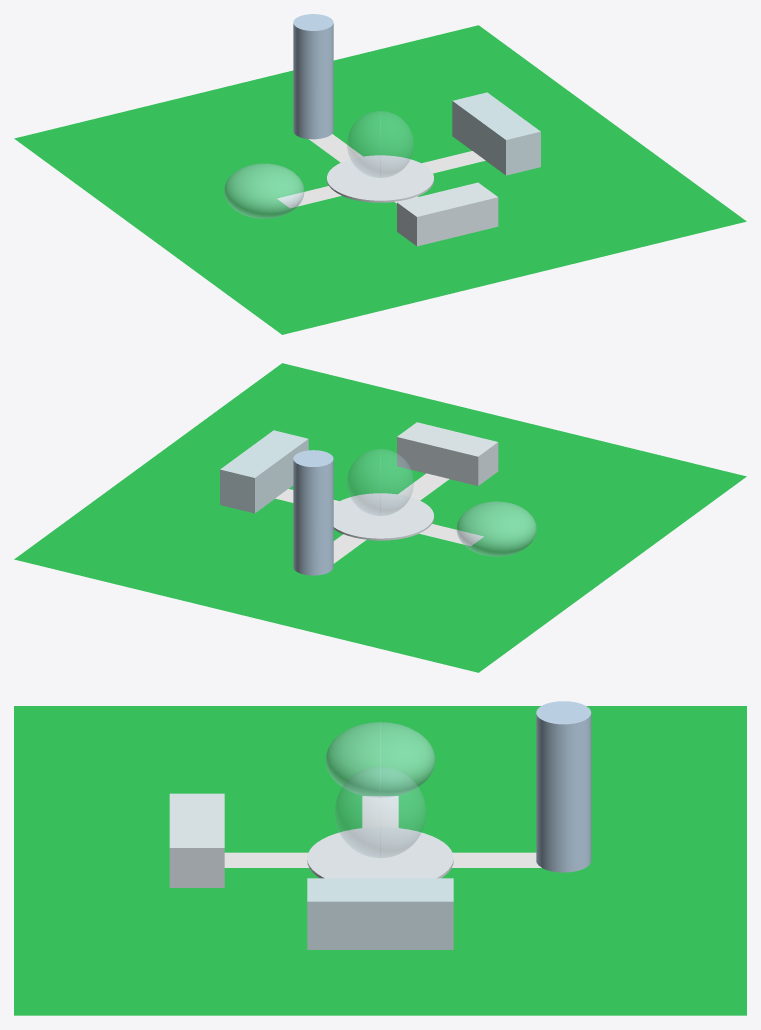
The model's file is campus.glb.
3 renders of one model, top to bottom at view 1: azimuth 30°, elevation 25°; view 2: azimuth 150°, elevation 25°; view 3: azimuth 270°, elevation 25°, orthographic. The views are drawn at different scales.
Visible parts, largest first — view 1: chao, predio skills, predio projetos, predio about me, plataforma central, predio educacao, domo, caminho 2, caminho 1; view 2: chao, predio projetos, predio about me, predio skills, plataforma central, predio educacao, domo, caminho 1, caminho 2; view 3: chao, predio skills, predio projetos, domo, predio educacao, plataforma central, predio about me, caminho 1, caminho 2.
Boxes of the visible parts, x1=… form: chao: x1=14, y1=25, x2=746, y2=334; predio skills: x1=452, y1=92, x2=540, y2=175; predio projetos: x1=293, y1=14, x2=333, y2=139; predio about me: x1=397, y1=182, x2=498, y2=246; plataforma central: x1=327, y1=155, x2=433, y2=202; predio educacao: x1=224, y1=163, x2=304, y2=218; domo: x1=347, y1=111, x2=413, y2=177; caminho 2: x1=277, y1=151, x2=485, y2=208; caminho 1: x1=309, y1=134, x2=417, y2=203; chao: x1=14, y1=363, x2=746, y2=672; predio projetos: x1=293, y1=450, x2=333, y2=575; predio about me: x1=397, y1=422, x2=498, y2=485; predio skills: x1=220, y1=430, x2=308, y2=513; plataforma central: x1=333, y1=493, x2=433, y2=540; predio educacao: x1=456, y1=501, x2=536, y2=556; domo: x1=347, y1=449, x2=413, y2=515; caminho 1: x1=333, y1=473, x2=449, y2=563; caminho 2: x1=275, y1=489, x2=483, y2=546; chao: x1=14, y1=706, x2=746, y2=1015; predio skills: x1=307, y1=878, x2=453, y2=949; predio projetos: x1=536, y1=701, x2=591, y2=872; domo: x1=335, y1=767, x2=425, y2=857; predio educacao: x1=325, y1=722, x2=435, y2=797; plataforma central: x1=307, y1=827, x2=453, y2=878; predio about me: x1=169, y1=793, x2=224, y2=887; caminho 1: x1=224, y1=852, x2=541, y2=867; caminho 2: x1=362, y1=796, x2=398, y2=827.
Bounding box in the file's own units: 80 × 18.6 × 80.
